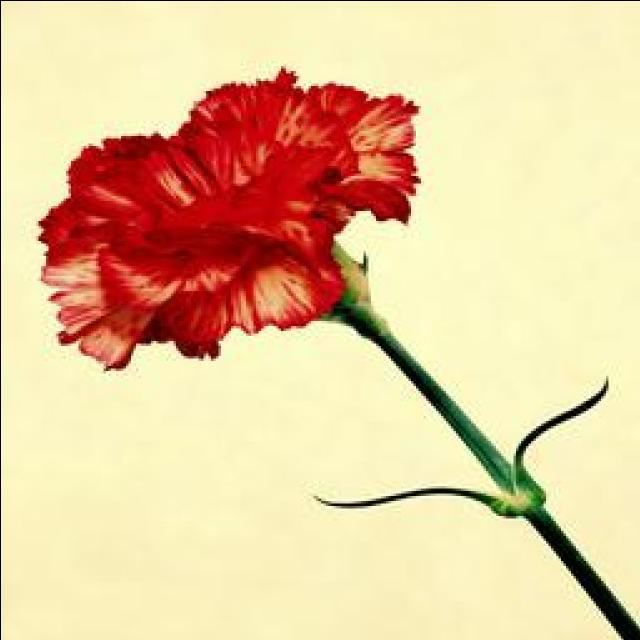carnation: (25, 73, 436, 383)
